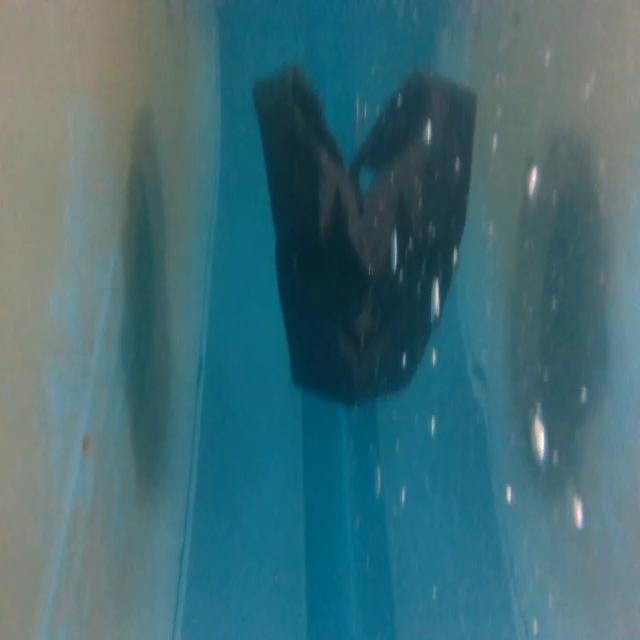plastic bags: (248, 55, 476, 412)
